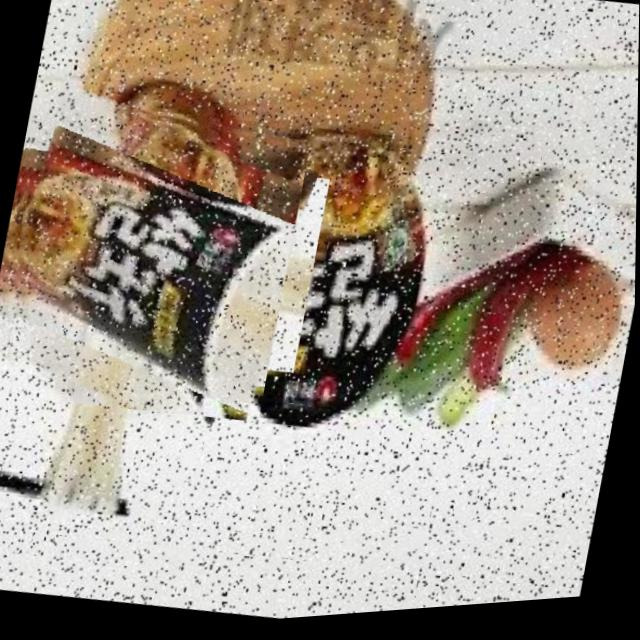Miscellaneous: (0, 78, 315, 441)
